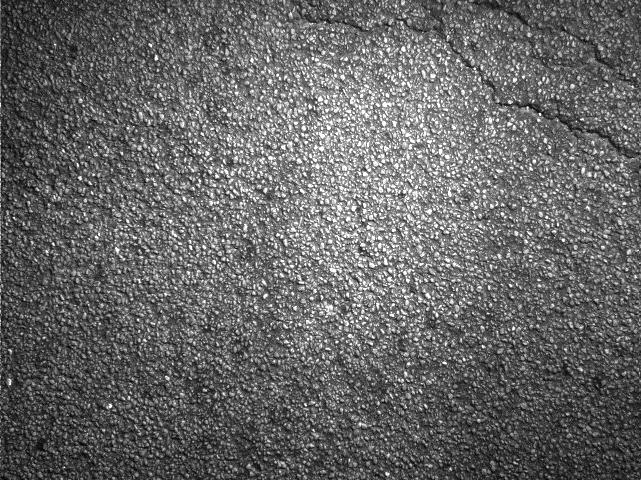crack: (448, 72, 641, 153), (301, 7, 487, 78)
